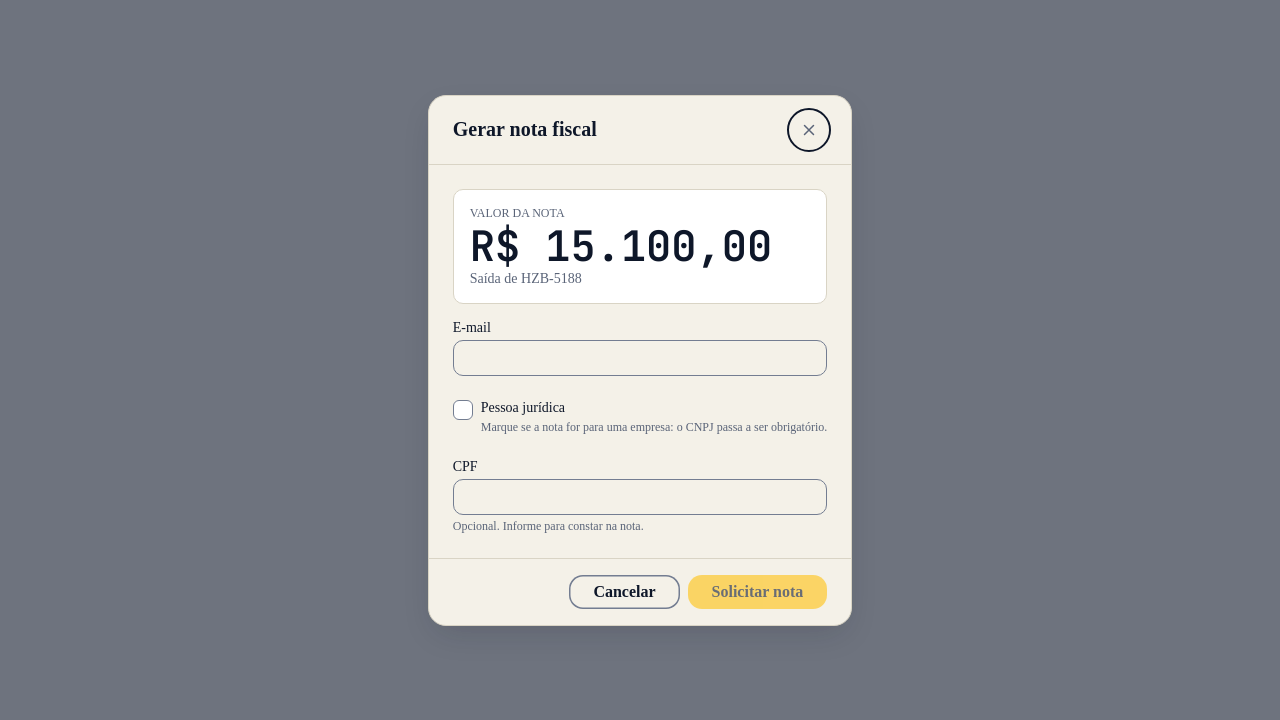
it: NotaFiscalModal › pessoa jurídica com CNPJ válido envia a solicitação
Type "maria@exemplo.com" into the field labelled "E-mail" at point(640, 358), box [453,340,827,376]
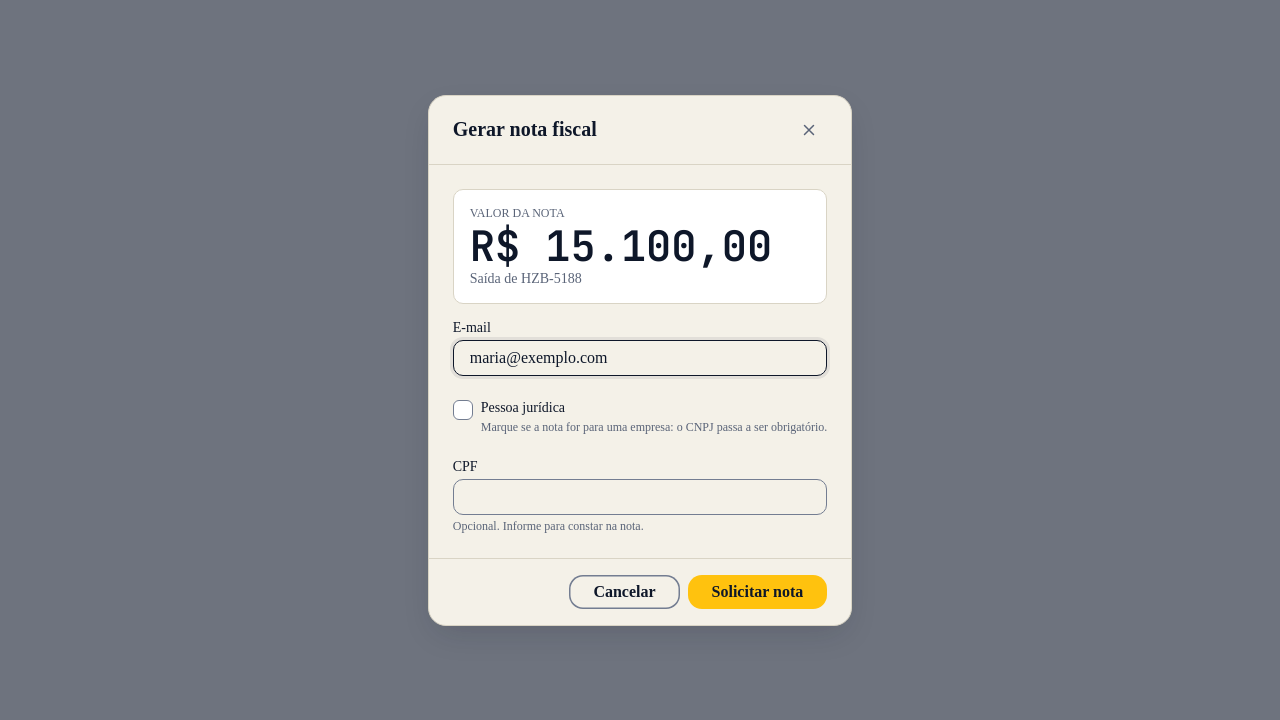
Click the checkbox labelled "Pessoa jurídica" at point(640, 417), box [453,392,827,442]
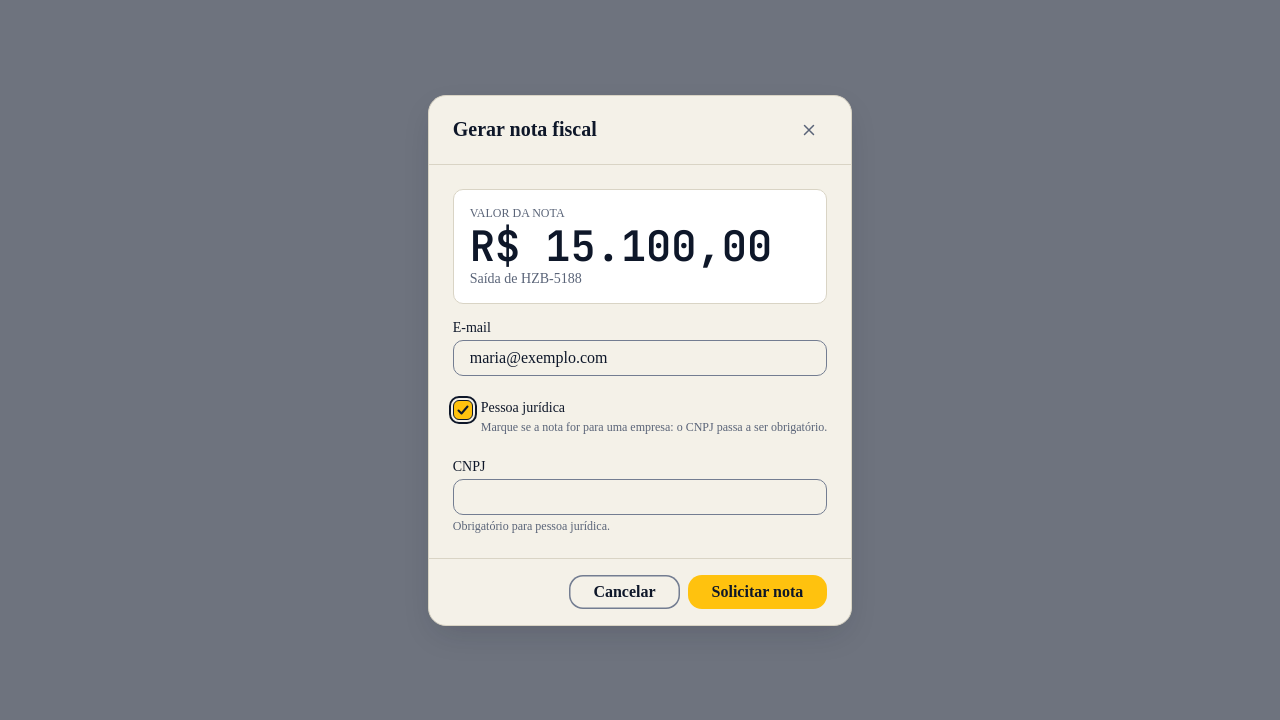
Type "11222333000181" into the field labelled "CNPJ" at point(640, 496), box [453,478,827,514]
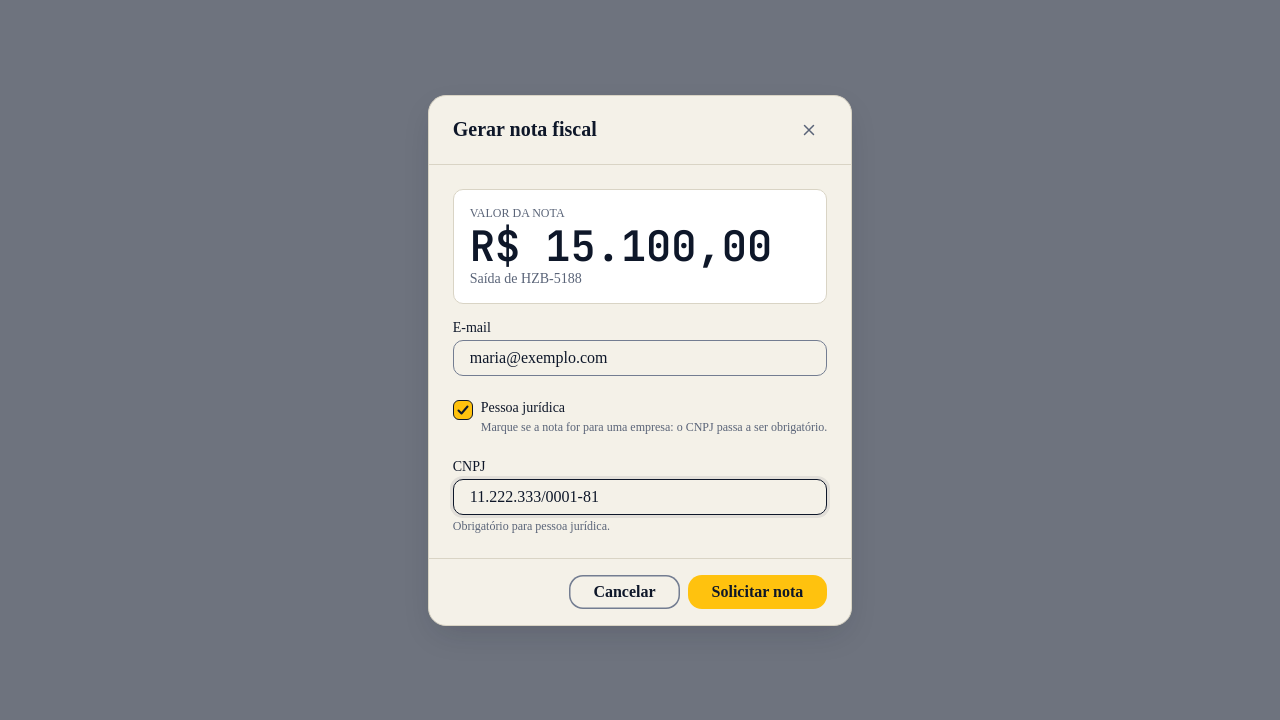
Click the button "Solicitar nota" at point(757, 592), box [688,574,827,608]
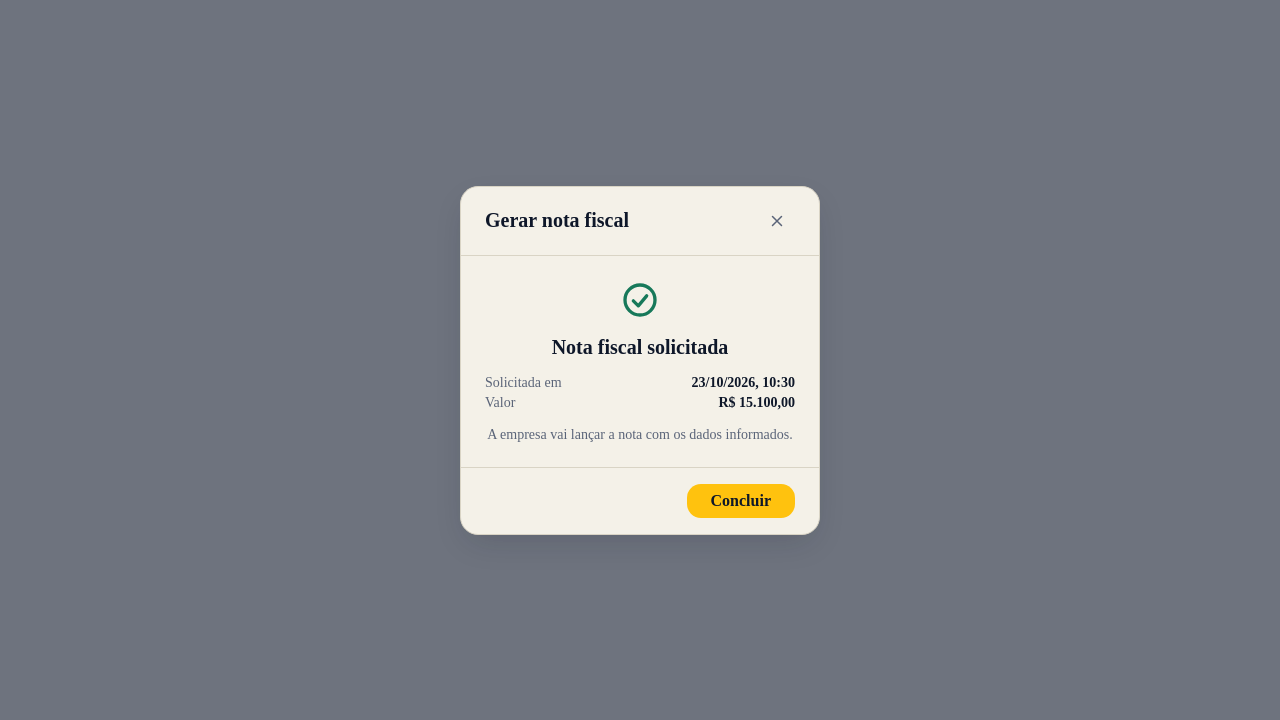
Check: the heading "Nota fiscal solicitada" is shown, box [552,336,728,358]
